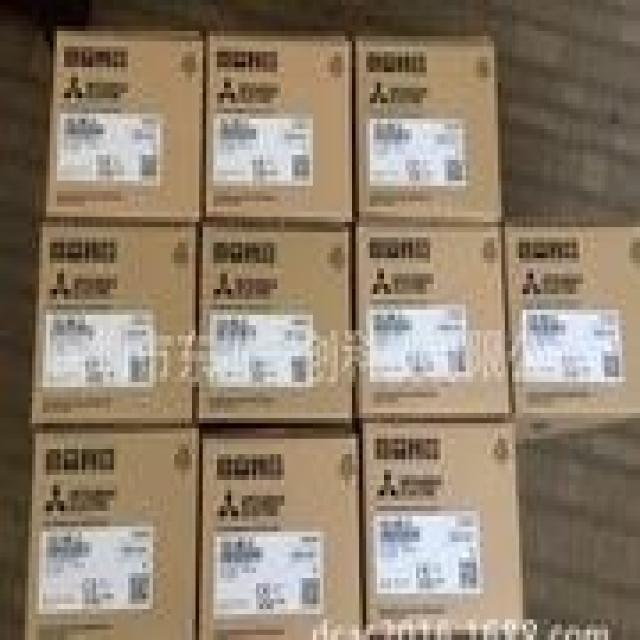box: (25, 428, 199, 640), (199, 423, 363, 635), (363, 423, 523, 640), (32, 227, 199, 423), (501, 222, 640, 444), (356, 222, 508, 418), (199, 227, 352, 418), (46, 31, 203, 217), (206, 36, 352, 222), (356, 41, 501, 222)
